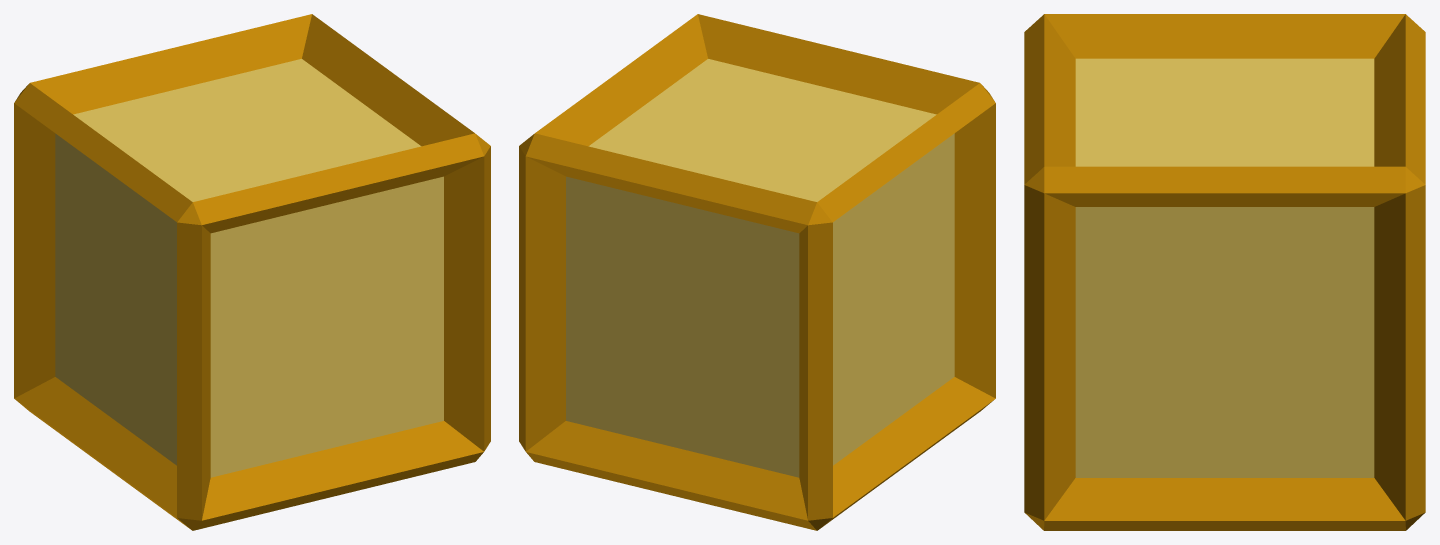
The model's file is Cajachica.fbx.
The picture shows the model from 3 angles, left to right: view 1: azimuth 30°, elevation 25°; view 2: azimuth 150°, elevation 25°; view 3: azimuth 270°, elevation 25°; orthographic projection. The views are drawn at different scales.
Parts seen in each view (by area): view 1: caja:pCube3; view 2: caja:pCube3; view 3: caja:pCube3.
Part boxes in pixels (box(x1,y1,x2,y2)): caja:pCube3: box(14, 14, 490, 530); caja:pCube3: box(519, 14, 995, 530); caja:pCube3: box(1024, 14, 1425, 530).
Size of the model in its own units: 971 by 972 by 971.
